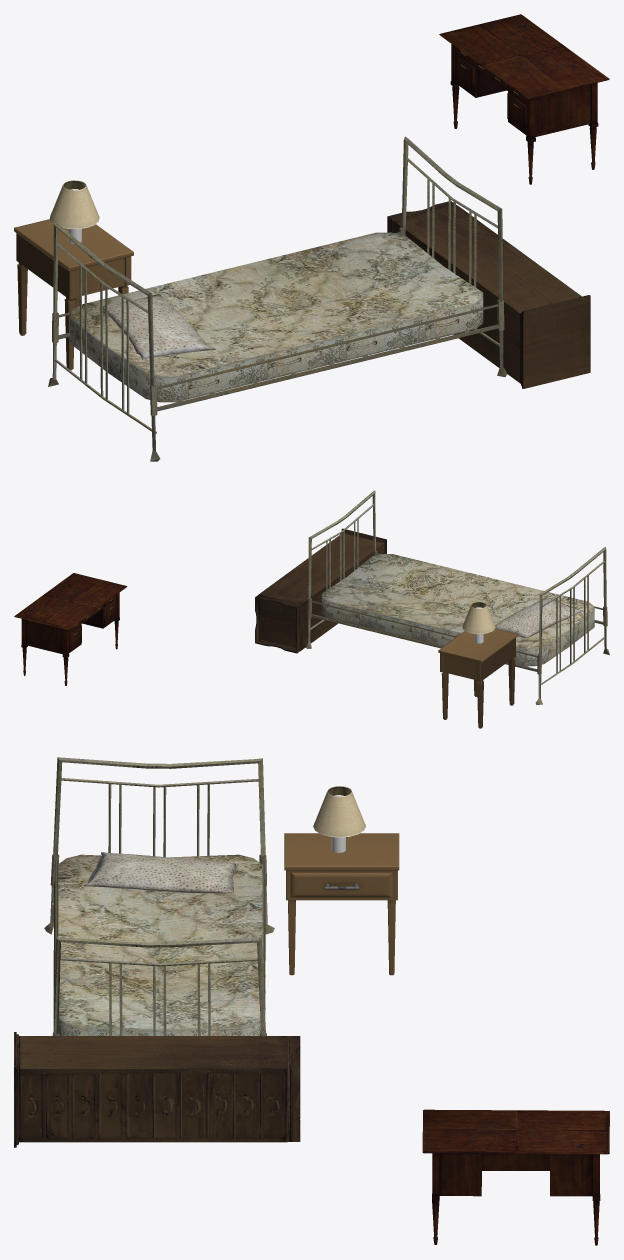
The model's file is bedroom.glb.
3 renders of one model, top to bottom at view 1: azimuth 30°, elevation 25°; view 2: azimuth 150°, elevation 25°; view 3: azimuth 270°, elevation 25°, orthographic. The views are drawn at different scales.
Parts seen in each view (by area): view 1: bed, drawer3, furniture_desk01a, bedside_table, pillow01, lamp_table02_gib2; view 2: bed, drawer3, furniture_desk01a, bedside_table, pillow01, lamp_table02_gib2; view 3: bed, drawer3, furniture_desk01a, bedside_table, pillow01, lamp_table02_gib2.
Boxes of the visible parts, x1,y1,x2,y2 form: bed: (48, 136, 507, 461); drawer3: (387, 201, 590, 388); furniture_desk01a: (439, 14, 609, 184); bedside_table: (14, 219, 133, 370); pillow01: (102, 294, 215, 359); lamp_table02_gib2: (49, 180, 99, 229); bed: (305, 490, 609, 704); drawer3: (255, 528, 386, 653); furniture_desk01a: (14, 573, 127, 685); bedside_table: (438, 629, 517, 728); pillow01: (495, 596, 583, 638); lamp_table02_gib2: (462, 602, 495, 634); bed: (44, 757, 274, 1036); drawer3: (14, 1032, 300, 1147); furniture_desk01a: (422, 1109, 609, 1245); bedside_table: (284, 833, 399, 975); pillow01: (83, 852, 236, 893); lamp_table02_gib2: (313, 786, 365, 837).
Bounding box in the file's own units: 3.11 × 0.7772 × 2.39.
Materials: 7 (7 with a texture image).
